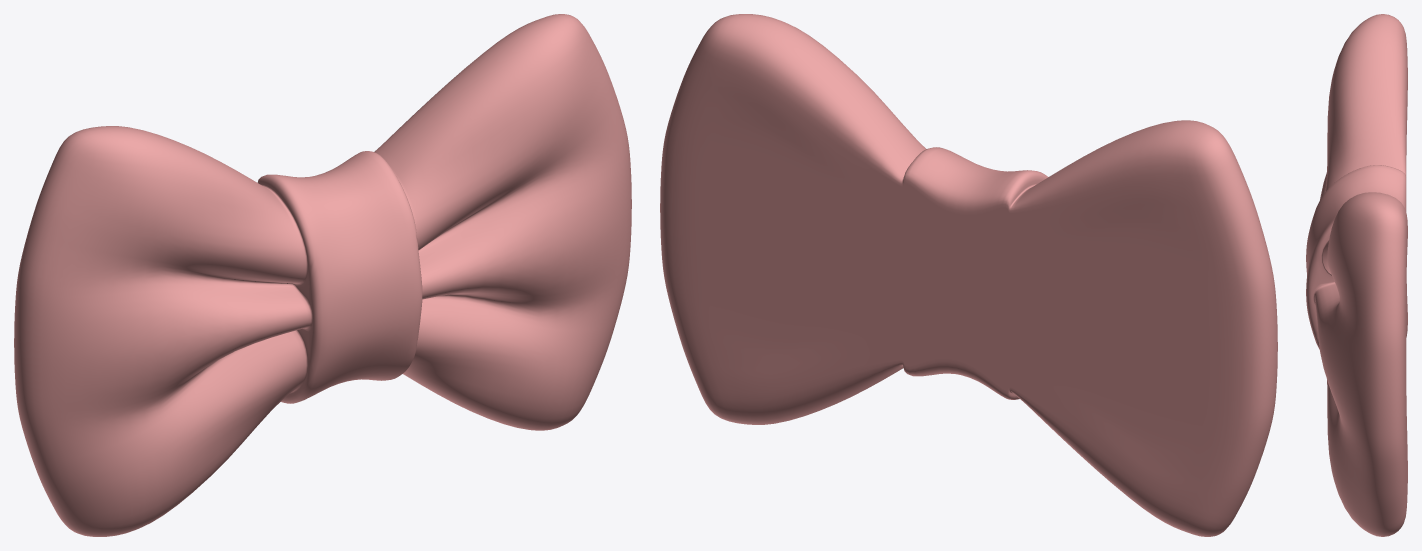
The model's file is bowtie.glb.
The picture shows the model from 3 angles, left to right: view 1: azimuth 30°, elevation 25°; view 2: azimuth 150°, elevation 25°; view 3: azimuth 270°, elevation 25°; orthographic projection. The views are drawn at different scales.
Parts seen in each view (by area): view 1: node-0; view 2: node-0; view 3: node-0.
Boxes of the visible parts, box(x1,y1,x2,y2) form: node-0: box(14, 14, 631, 536); node-0: box(660, 14, 1277, 536); node-0: box(1306, 14, 1407, 536).
Size of the model in its own units: 5.47 by 3.46 by 0.9647.
